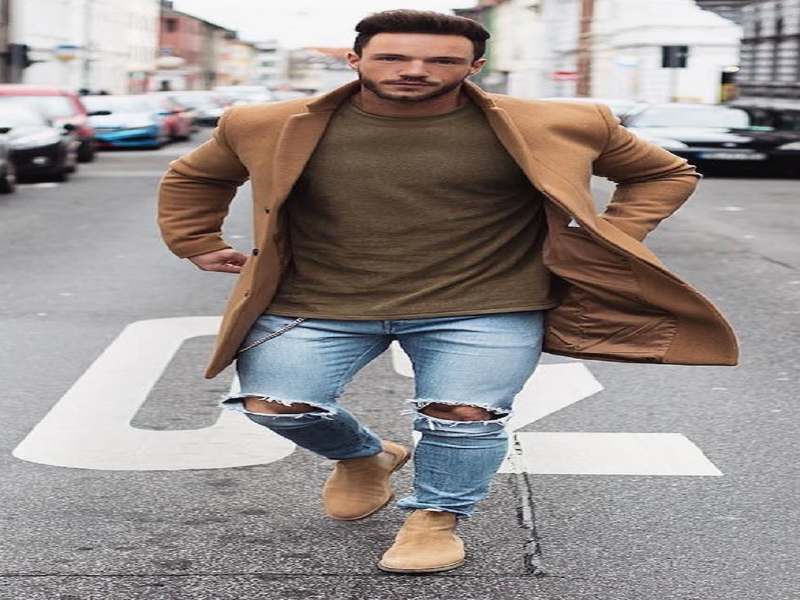shoes_men_chelsea_chelseaboots_suede_none_none_beige_none: (302, 441, 410, 523), (377, 502, 483, 583)
